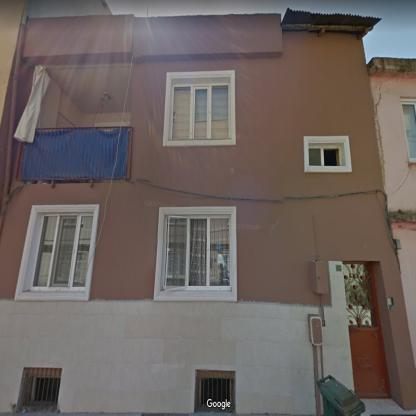door: (343, 262, 390, 397)
window: (162, 217, 232, 292), (29, 213, 93, 290), (170, 82, 231, 140), (21, 369, 61, 407), (198, 373, 233, 409), (401, 99, 415, 158), (308, 146, 342, 165)
